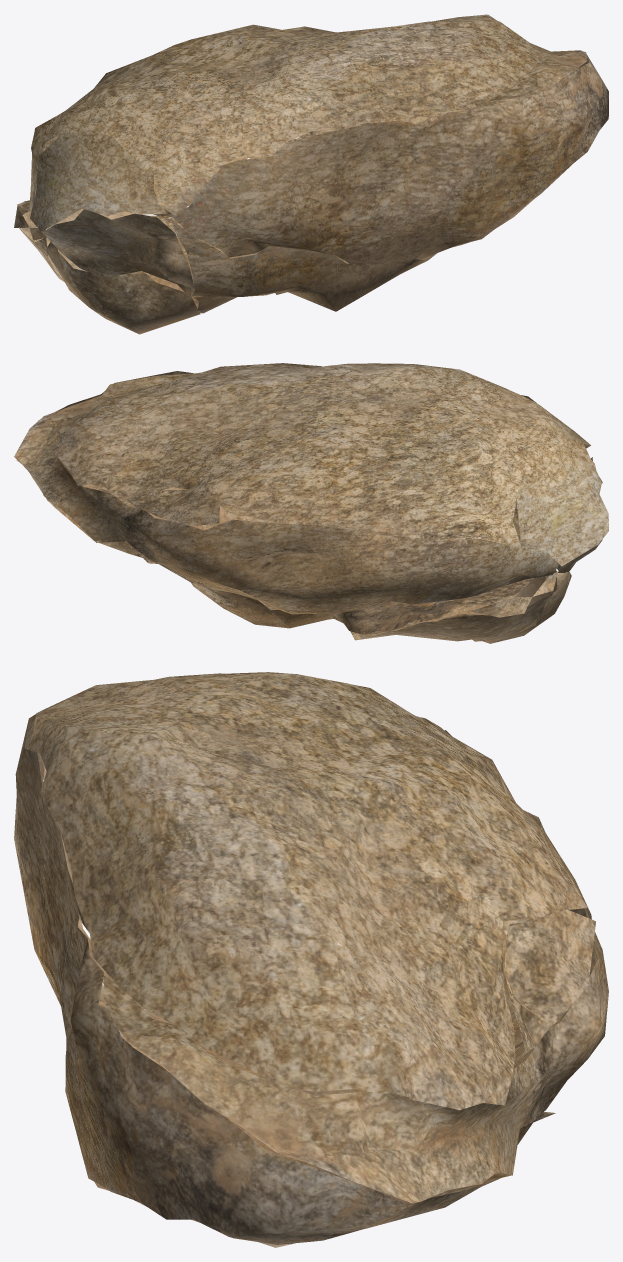
The model's file is namaqualand_boulder_05.glb.
The picture shows the model from 3 angles, top to bottom: view 1: azimuth 30°, elevation 25°; view 2: azimuth 150°, elevation 25°; view 3: azimuth 270°, elevation 25°; orthographic projection. The views are drawn at different scales.
Parts seen in each view (by area): view 1: namaqualand_boulder_05; view 2: namaqualand_boulder_05; view 3: namaqualand_boulder_05.
Part boxes in pixels (<box>): namaqualand_boulder_05: <box>14,14,608,334</box>; namaqualand_boulder_05: <box>14,363,608,643</box>; namaqualand_boulder_05: <box>14,672,608,1247</box>.
Bounding box in the file's own units: 1.36 × 0.5273 × 0.7375.
1 material, 1 textured.
